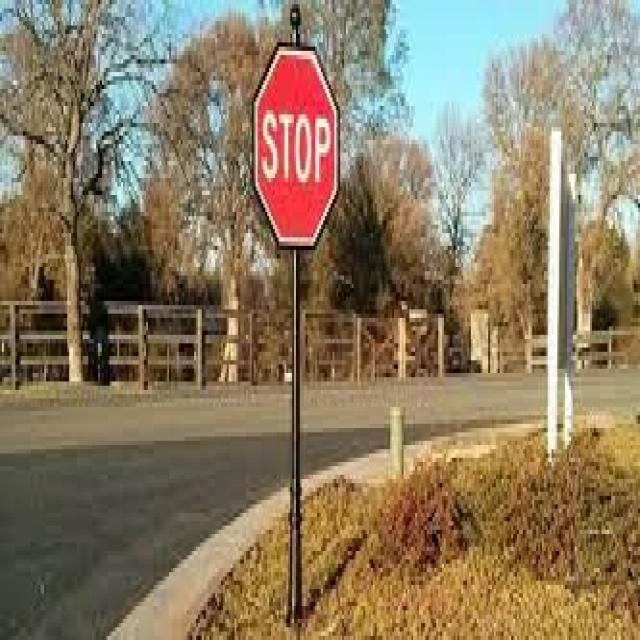stop-sign: (234, 21, 374, 350)
